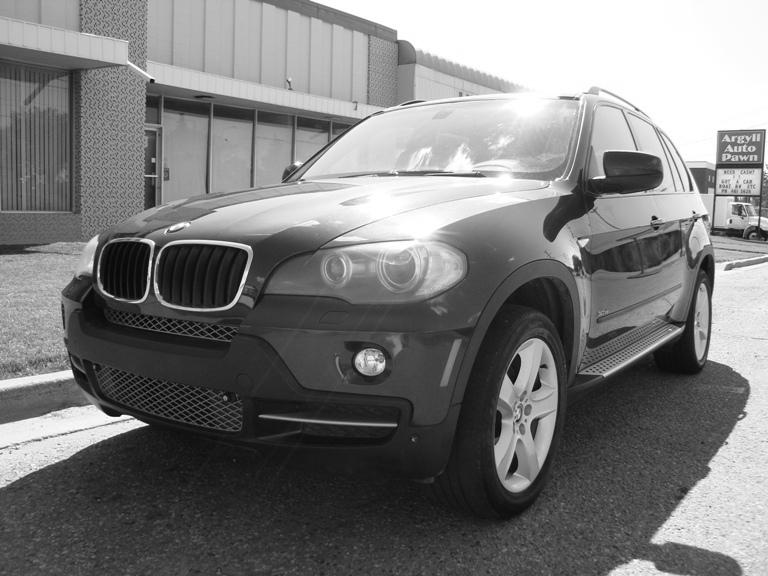car: (56, 89, 717, 519)
